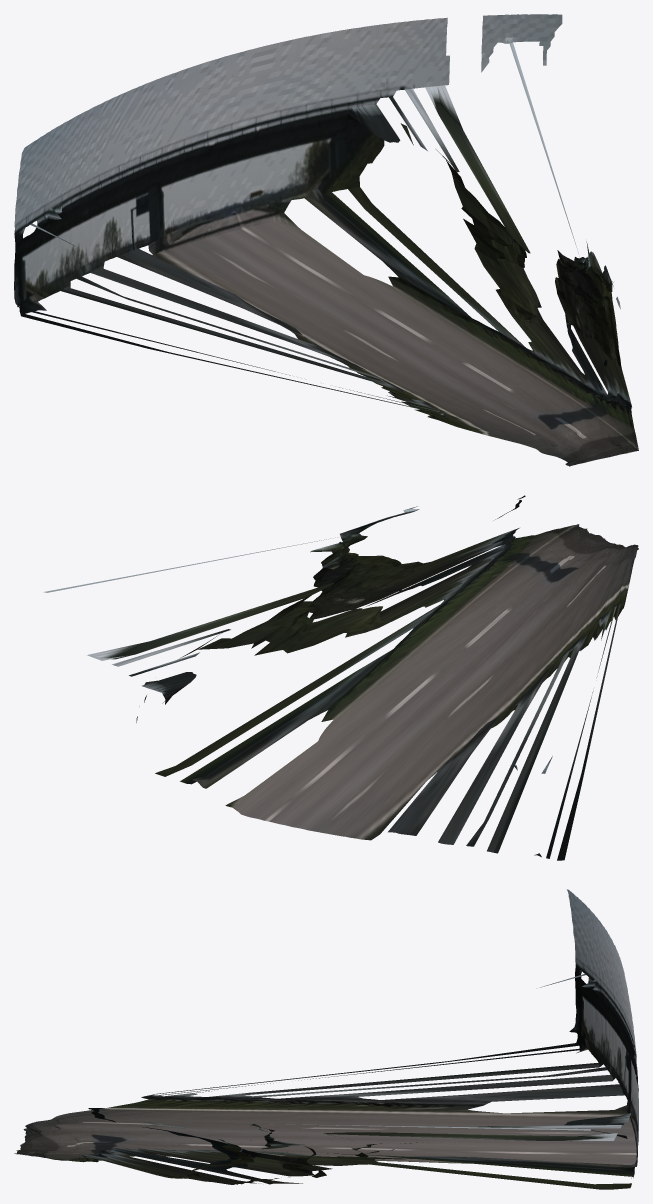
3 renders of one model, top to bottom at view 1: azimuth 30°, elevation 25°; view 2: azimuth 150°, elevation 25°; view 3: azimuth 270°, elevation 25°, orthographic. The views are drawn at different scales.
Parts seen in each view (by area): view 1: defaultobject; view 2: defaultobject; view 3: defaultobject.
Boxes of the visible parts, bbox=[...] form: defaultobject: bbox=[14, 14, 638, 466]; defaultobject: bbox=[43, 495, 638, 860]; defaultobject: bbox=[14, 889, 638, 1189].
Bounding box in the file's own units: 40.23 × 12.91 × 44.8.
Materials: 1 (1 with a texture image).
